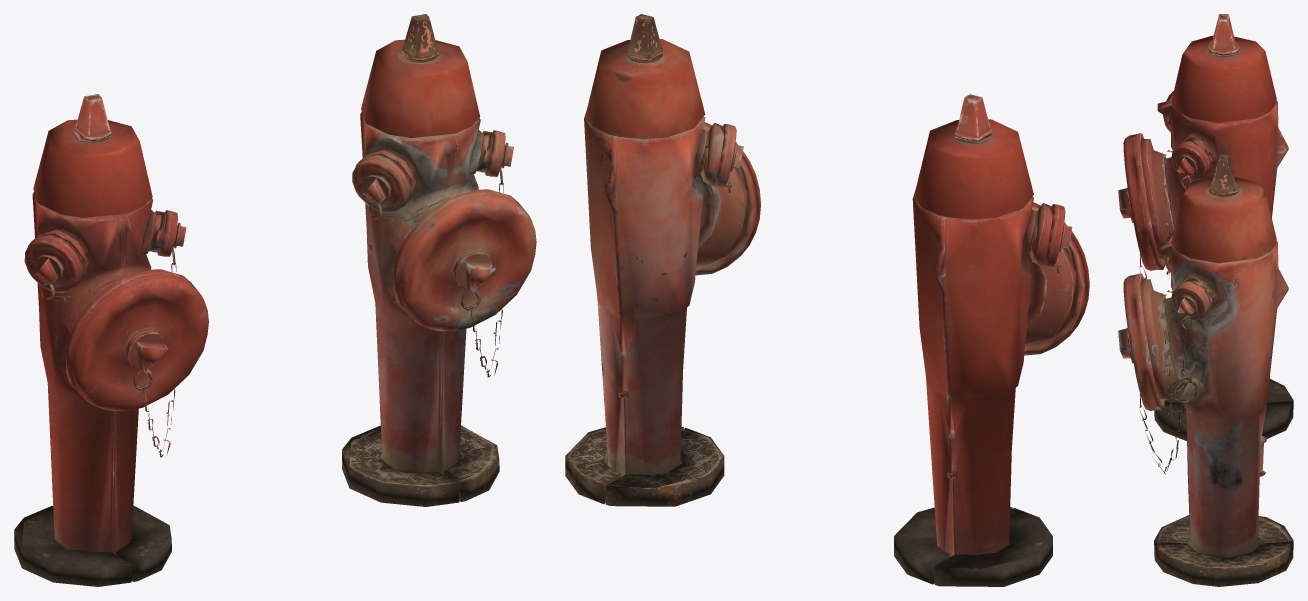
Rendered from fire_hydrant.glb.
3 renders of one model, left to right at view 1: azimuth 30°, elevation 25°; view 2: azimuth 150°, elevation 25°; view 3: azimuth 270°, elevation 25°, orthographic. The views are drawn at different scales.
Visible parts, largest first — view 1: fire_hydrant_aged, fire_hydrant, fire_hydrant_cap_01_aged, fire_hydrant_cap_01, fire_hydrant_cap_03, fire_hydrant_cap_03_aged, fire_hydrant_chain, fire_hydrant_chain_aged, fire_hydrant_cap_02_aged, fire_hydrant_cap_02; view 2: fire_hydrant_aged, fire_hydrant, fire_hydrant_cap_01, fire_hydrant_cap_01_aged, fire_hydrant_cap_03, fire_hydrant_cap_03_aged; view 3: fire_hydrant_aged, fire_hydrant, fire_hydrant_cap_01_aged, fire_hydrant_cap_01, fire_hydrant_chain_aged, fire_hydrant_cap_02_aged, fire_hydrant_cap_02, fire_hydrant_chain.
Boxes of the visible parts, <box> form: fire_hydrant_aged: <box>342,14,499,506</box>; fire_hydrant: <box>14,94,171,586</box>; fire_hydrant_cap_01_aged: <box>393,189,536,331</box>; fire_hydrant_cap_01: <box>66,269,208,411</box>; fire_hydrant_cap_03: <box>24,234,83,292</box>; fire_hydrant_cap_03_aged: <box>352,154,411,212</box>; fire_hydrant_chain: <box>41,228,176,457</box>; fire_hydrant_chain_aged: <box>368,148,504,377</box>; fire_hydrant_cap_02_aged: <box>485,130,513,176</box>; fire_hydrant_cap_02: <box>157,210,186,256</box>; fire_hydrant_aged: <box>565,14,747,506</box>; fire_hydrant: <box>894,94,1076,586</box>; fire_hydrant_cap_01: <box>1024,202,1089,355</box>; fire_hydrant_cap_01_aged: <box>695,122,760,275</box>; fire_hydrant_cap_03: <box>1042,204,1072,267</box>; fire_hydrant_cap_03_aged: <box>713,124,743,186</box>; fire_hydrant_aged: <box>1141,154,1293,586</box>; fire_hydrant: <box>1141,14,1293,440</box>; fire_hydrant_cap_01_aged: <box>1118,273,1164,410</box>; fire_hydrant_cap_01: <box>1118,133,1164,270</box>; fire_hydrant_chain_aged: <box>1139,290,1198,474</box>; fire_hydrant_cap_02_aged: <box>1171,281,1210,320</box>; fire_hydrant_cap_02: <box>1171,141,1210,179</box>; fire_hydrant_chain: <box>1139,150,1191,279</box>.
Bounding box in the file's own units: 0.8745 × 0.7992 × 0.3173.
Materials: 2 (2 with a texture image).
